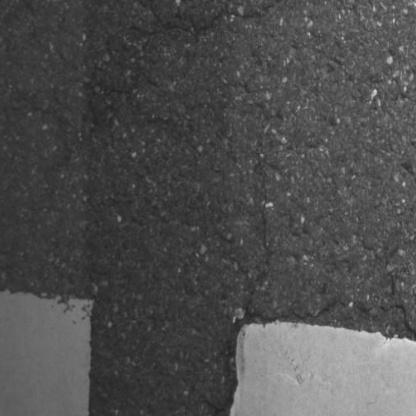Cracks: (229, 254, 343, 331), (138, 1, 279, 56), (376, 301, 416, 347)
